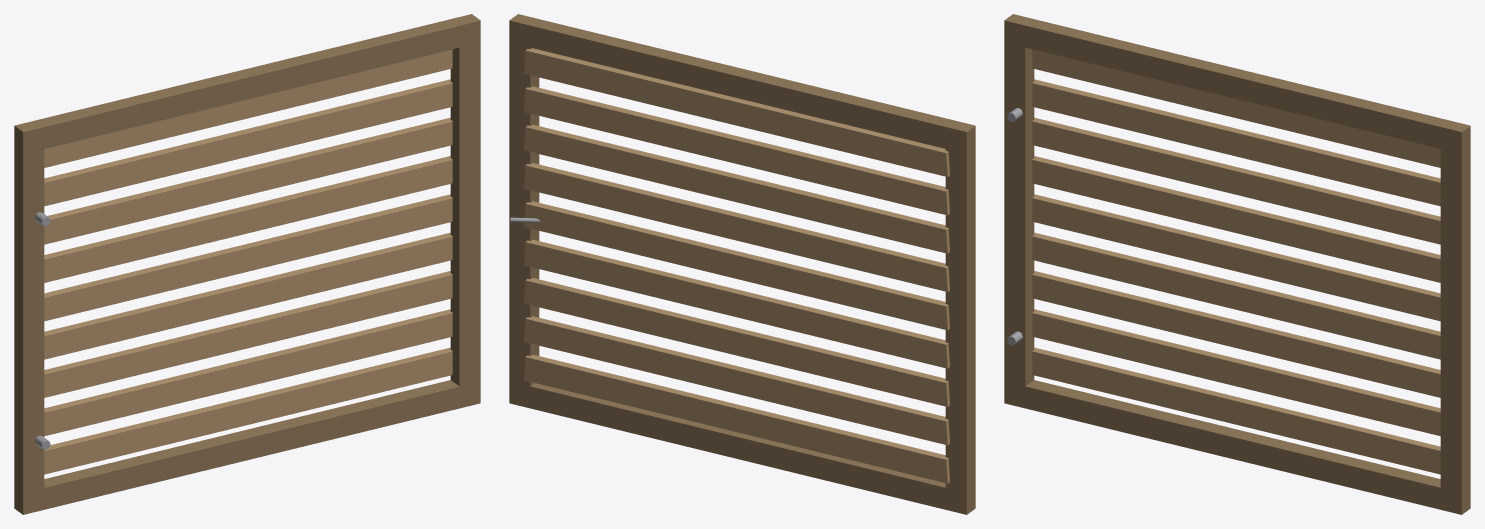
Rendered from BD_shutters.fbx.
3 views of the same model, side by side, from view 1: azimuth 30°, elevation 25°; view 2: azimuth 150°, elevation 25°; view 3: azimuth 330°, elevation 25° (orthographic).
Parts seen in each view (by area): view 1: BD_shutters; view 2: BD_shutters; view 3: BD_shutters.
Part boxes in pixels (left/top/right/bottom): BD_shutters: left=14, top=14, right=480, bottom=514; BD_shutters: left=509, top=14, right=975, bottom=514; BD_shutters: left=1004, top=14, right=1470, bottom=514.
Bounding box in the file's own units: 3 × 2.4 × 0.2913.
